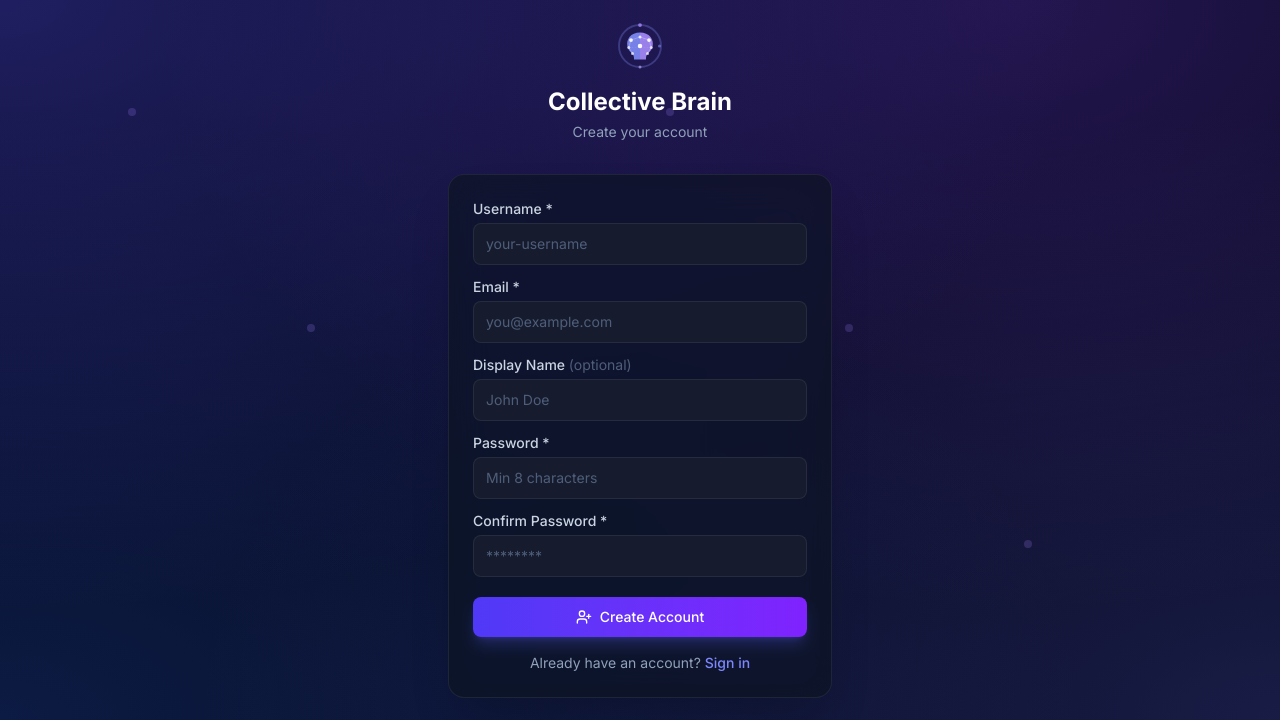
Test: RegisterPage › shows API error on duplicate user registration
The image size is (1280, 720).
Type "existing" into the field with placeholder "your-username". click: (640, 244)
box: [473,223,807,265]
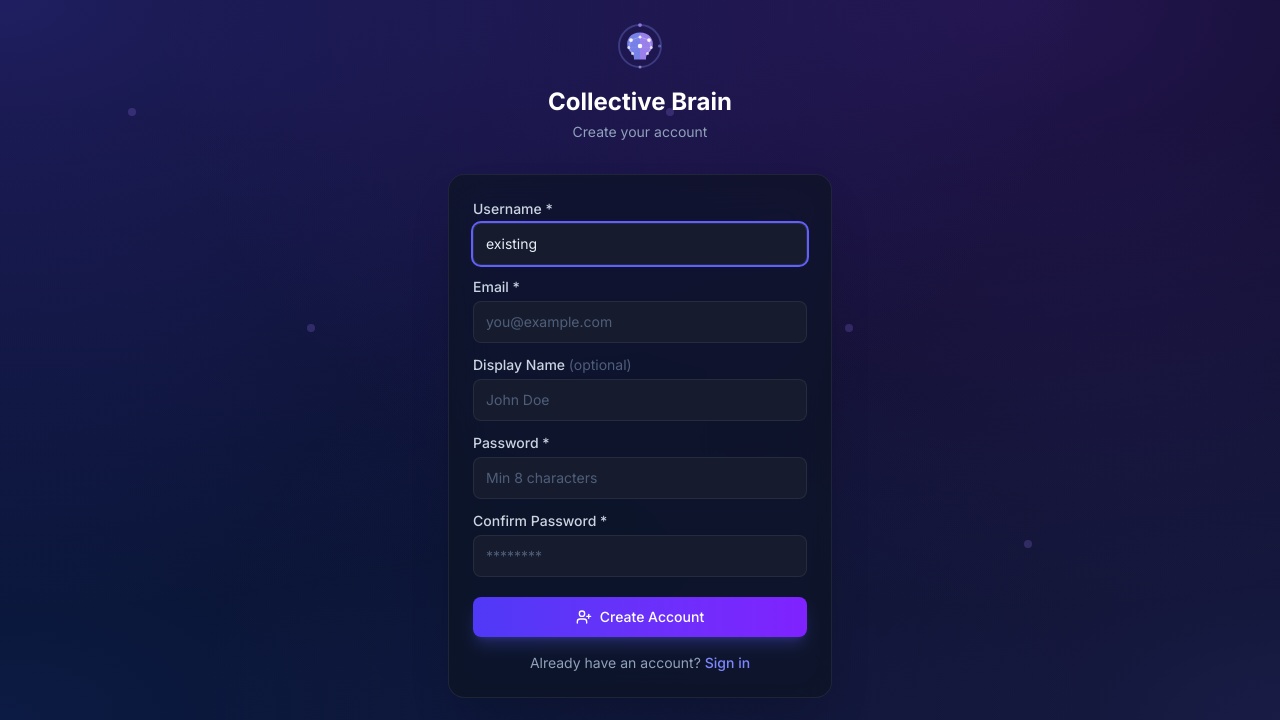
Type "x@test.com" into the field with placeholder "you@example.com". click: (640, 322)
box: [473,301,807,343]
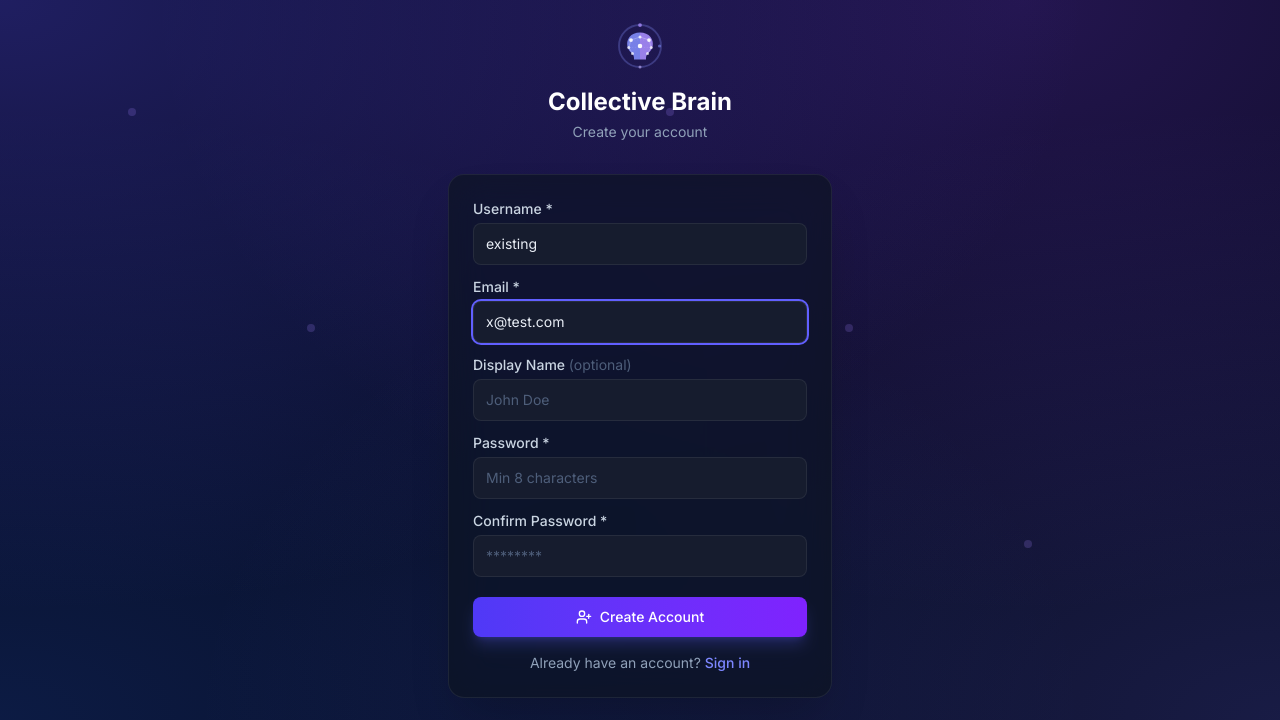
Type "password123" into the password field with placeholder "Min 8 characters". click: (640, 478)
box: [473,457,807,499]
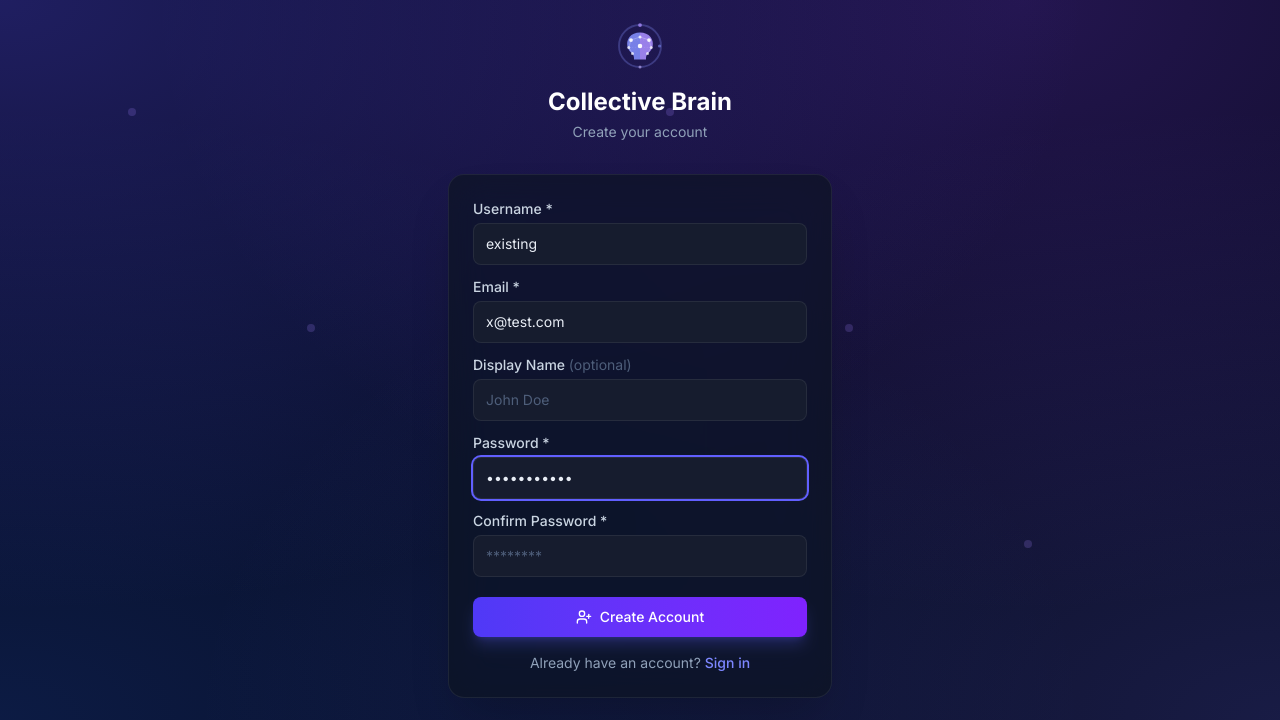
Type "password123" into the password field with placeholder "********". click: (640, 556)
box: [473,535,807,577]
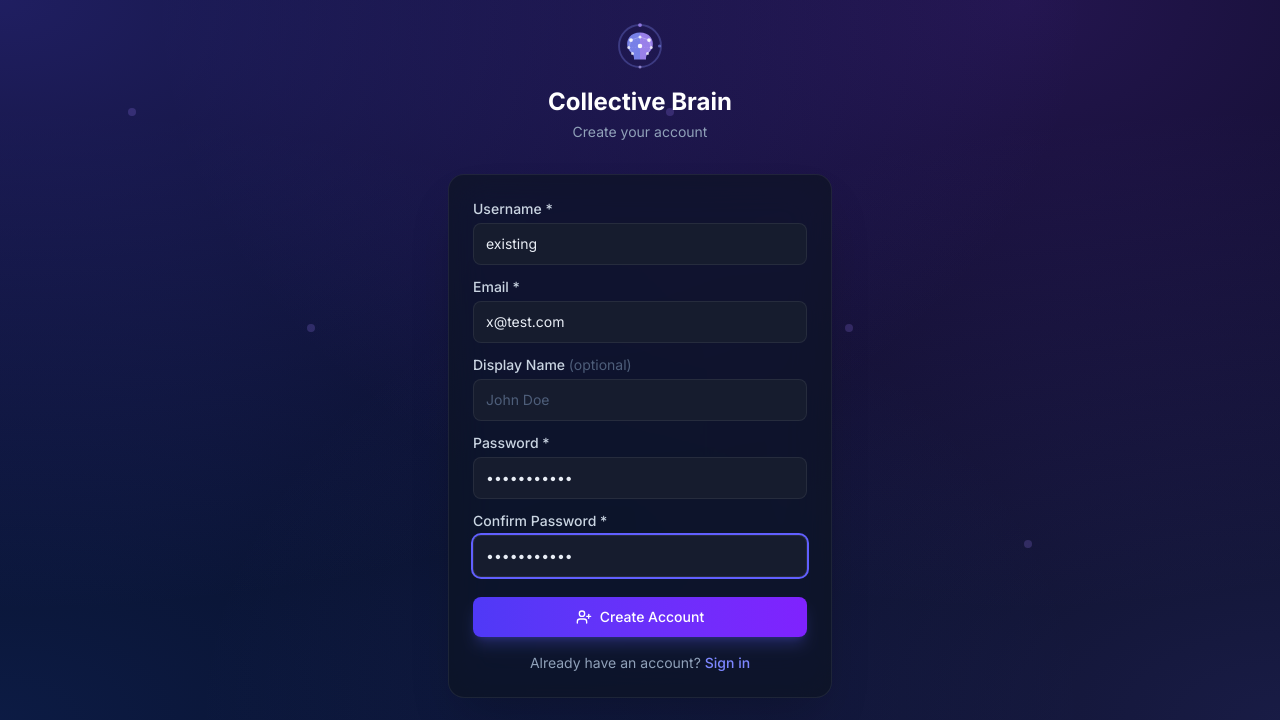
Click the button "Create Account". click: (640, 617)
box: [473,597,807,637]
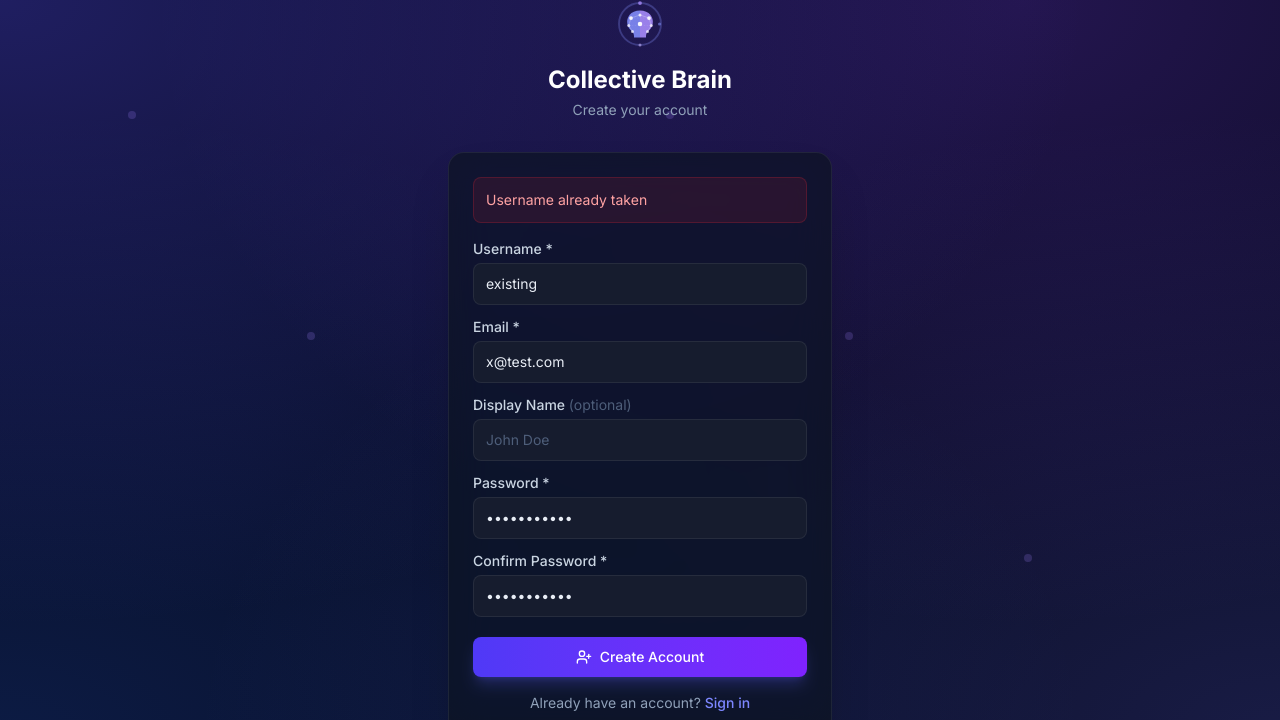
Now the text "Username already taken" is shown, box [473,177,807,223]
